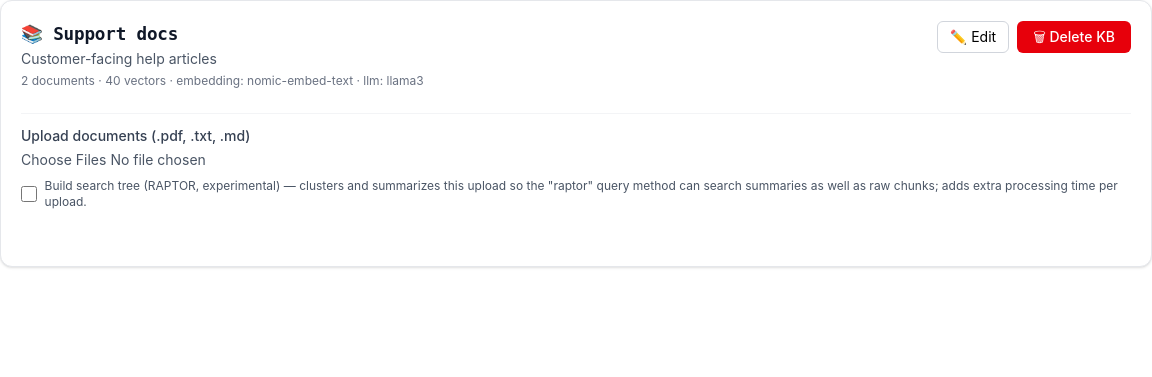
Test: KnowledgeBaseCard › saves an edit and exits edit mode
Click the button "✏️ Edit" at [973, 37], box [937,21,1009,53]
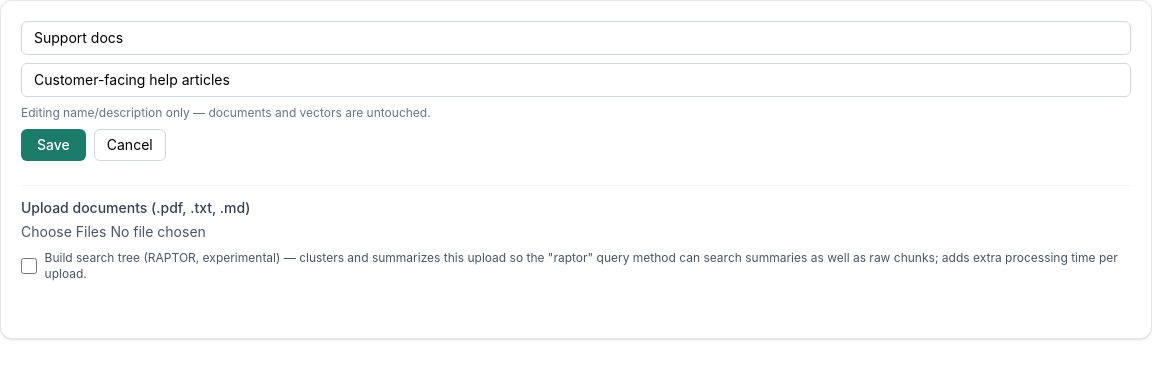
Replace the text in the field named "Knowledge base name" with "Renamed" at [576, 38], box [21,21,1131,55]
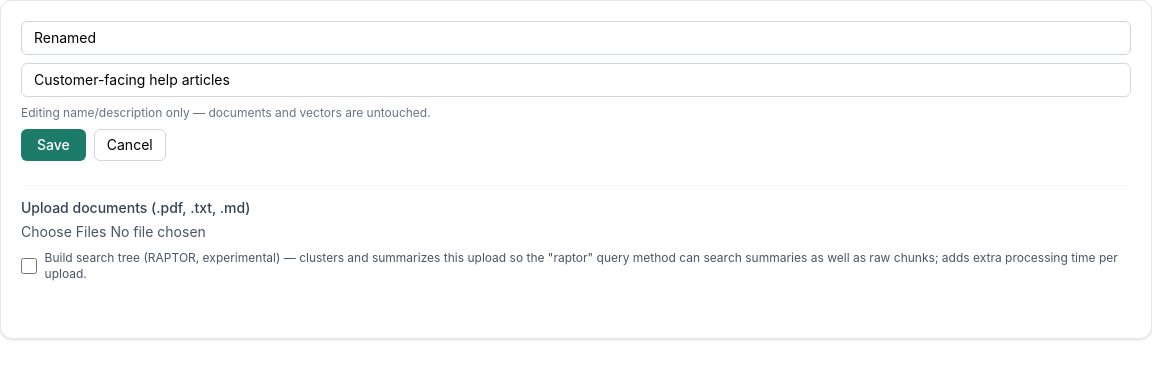
Click the button "Save" at [53, 145], box [21,129,86,161]
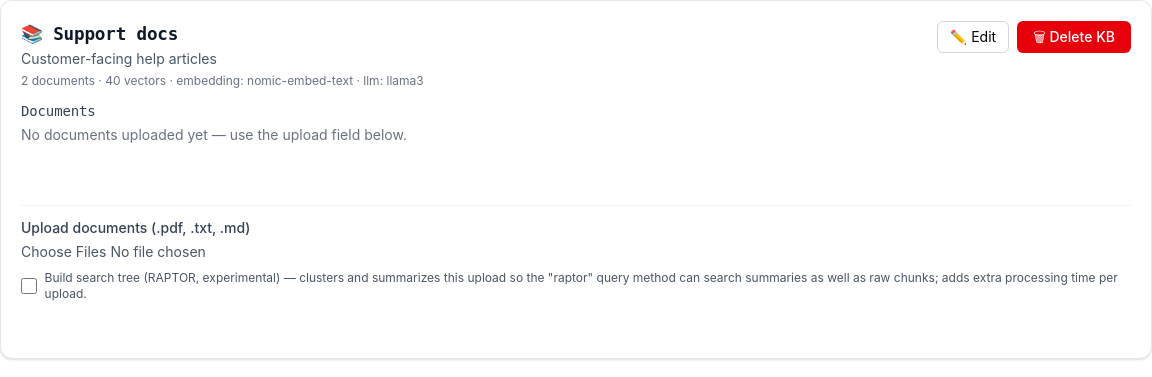
Expected: the field labelled "Knowledge base name" is gone
